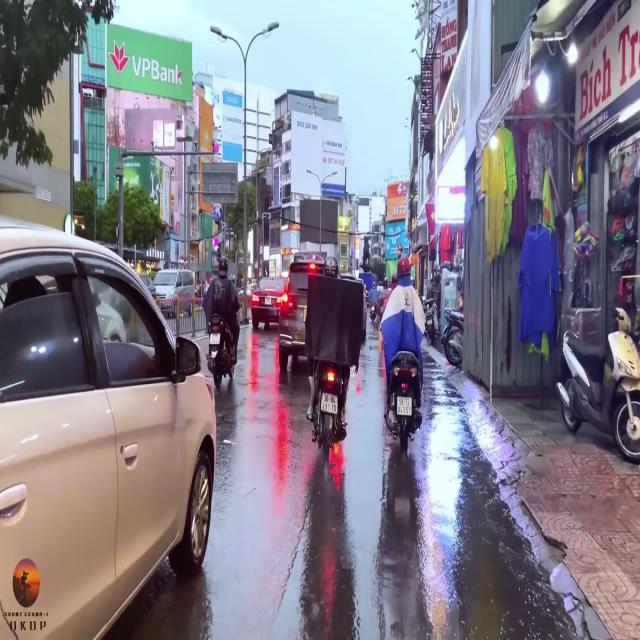bien_trang: (319, 390, 340, 419), (395, 391, 415, 421)
